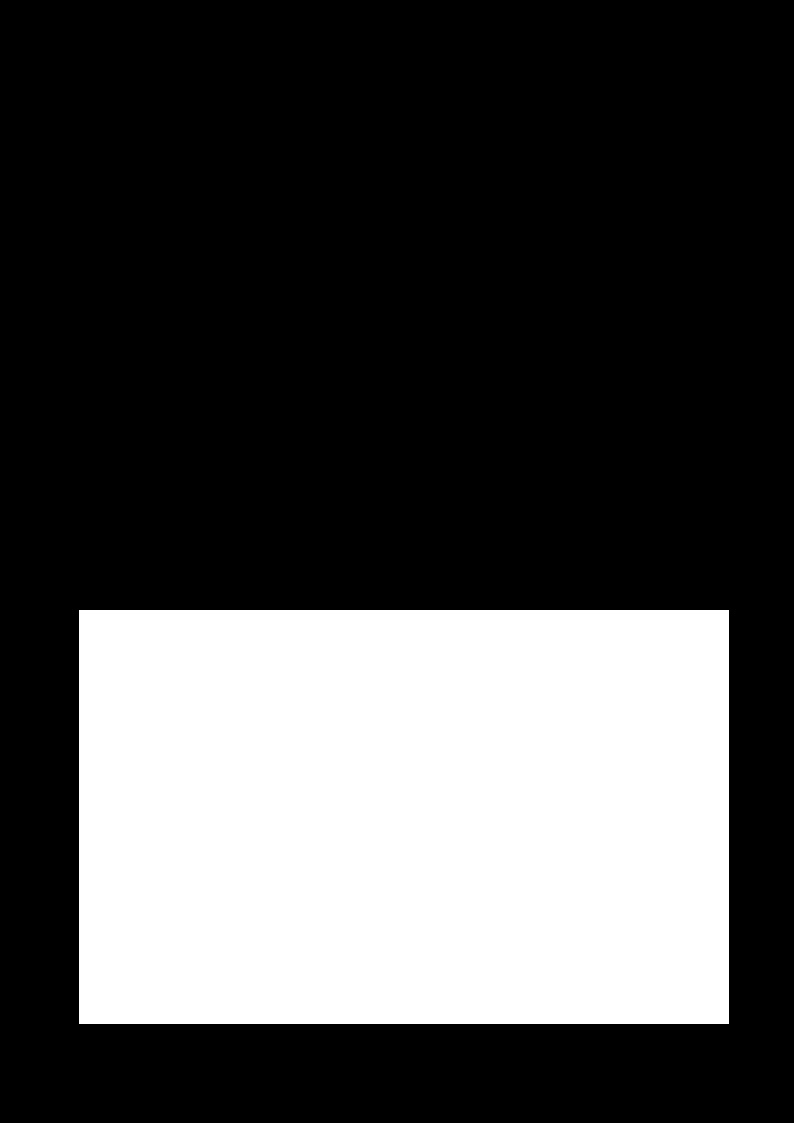table: (79, 610, 728, 1023)
